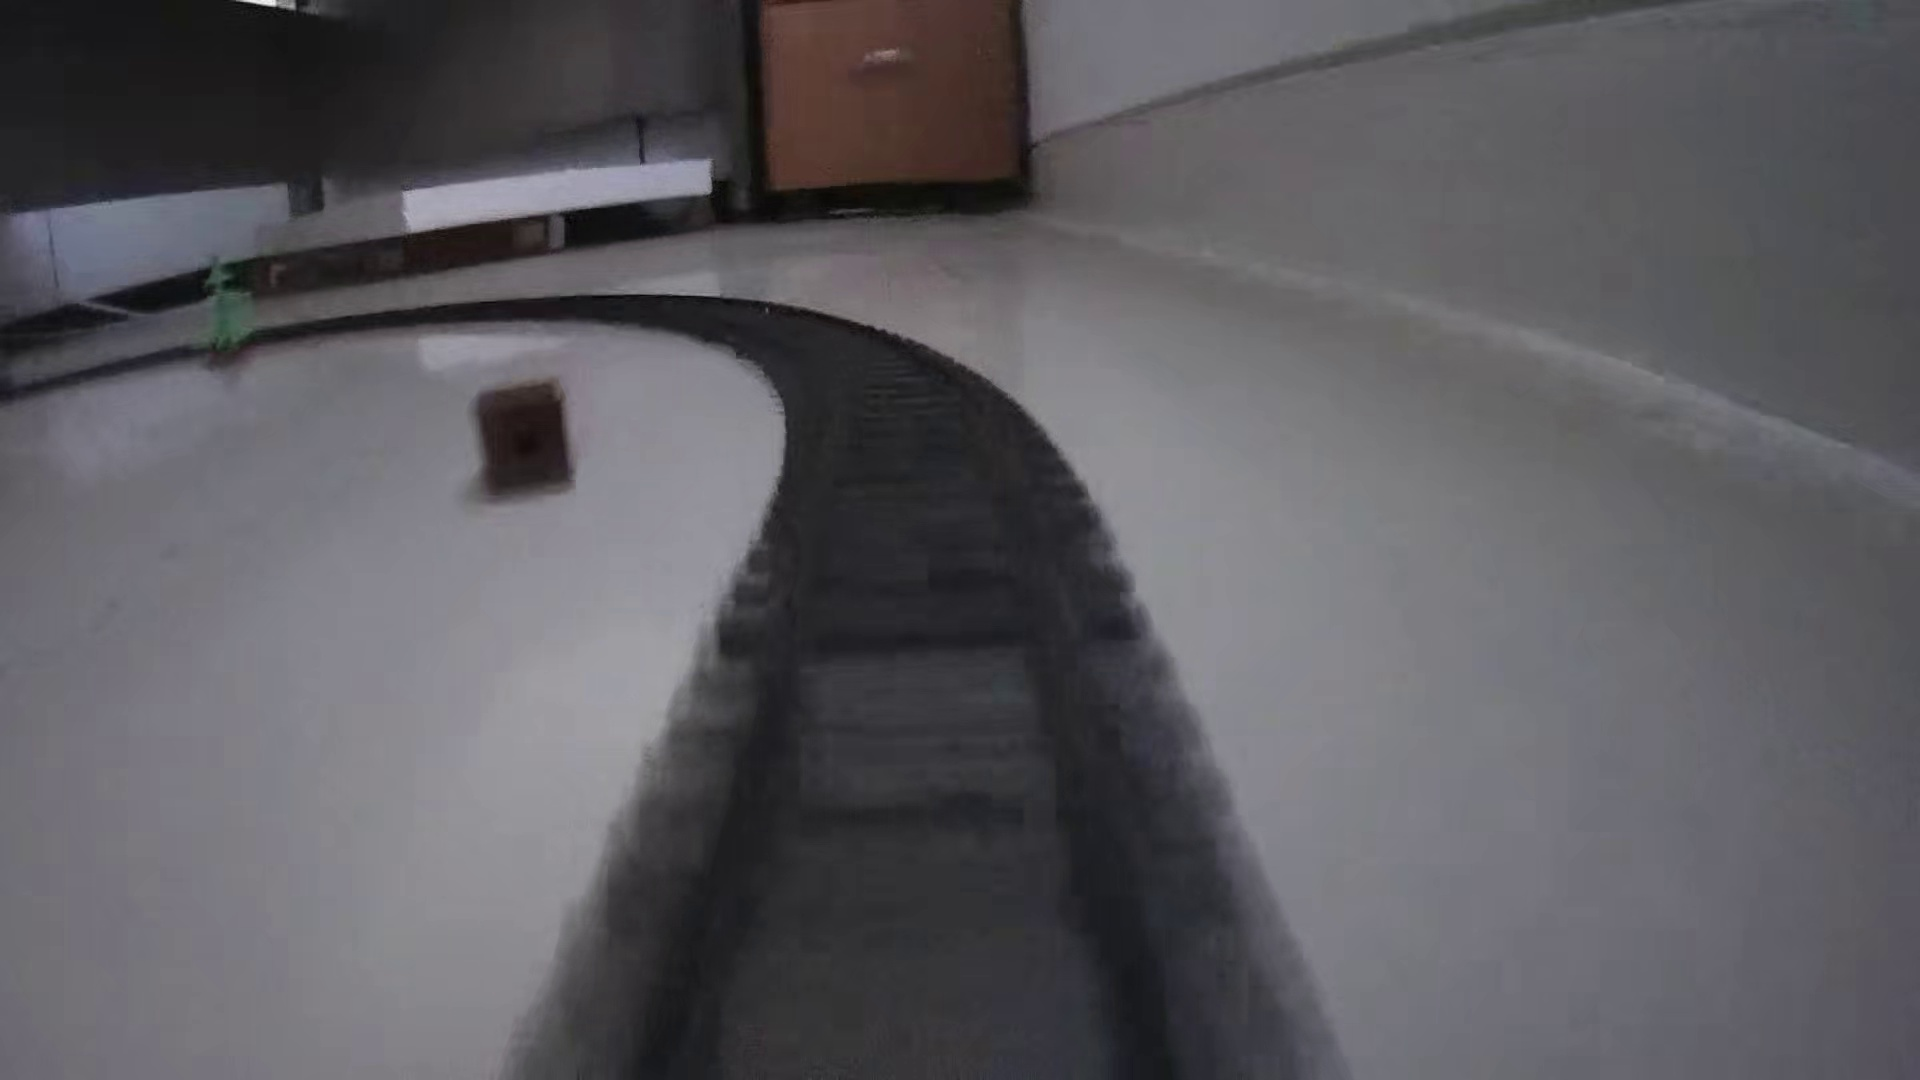box: (461, 380, 578, 501)
tree: (185, 253, 256, 368)
